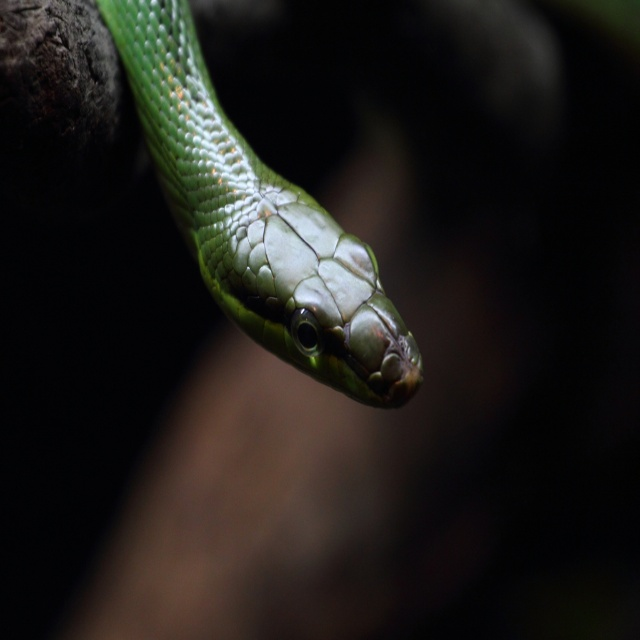Snake: (94, 0, 424, 410)
